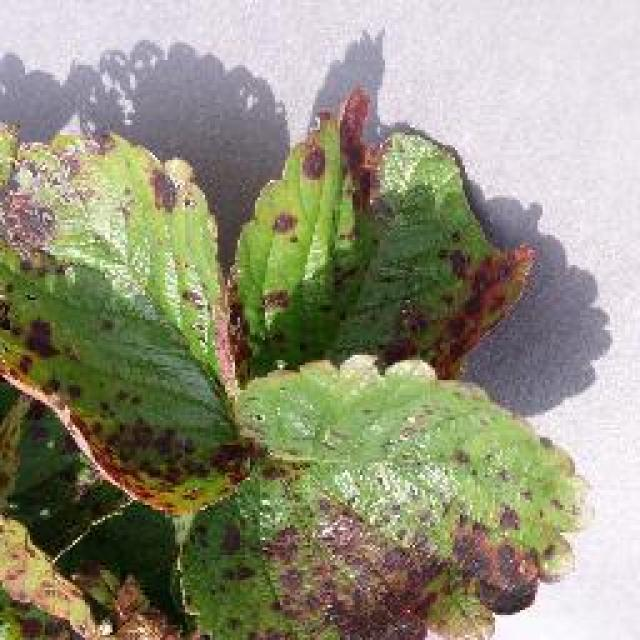Strawberry leaf scorch: (17, 167, 450, 608)
